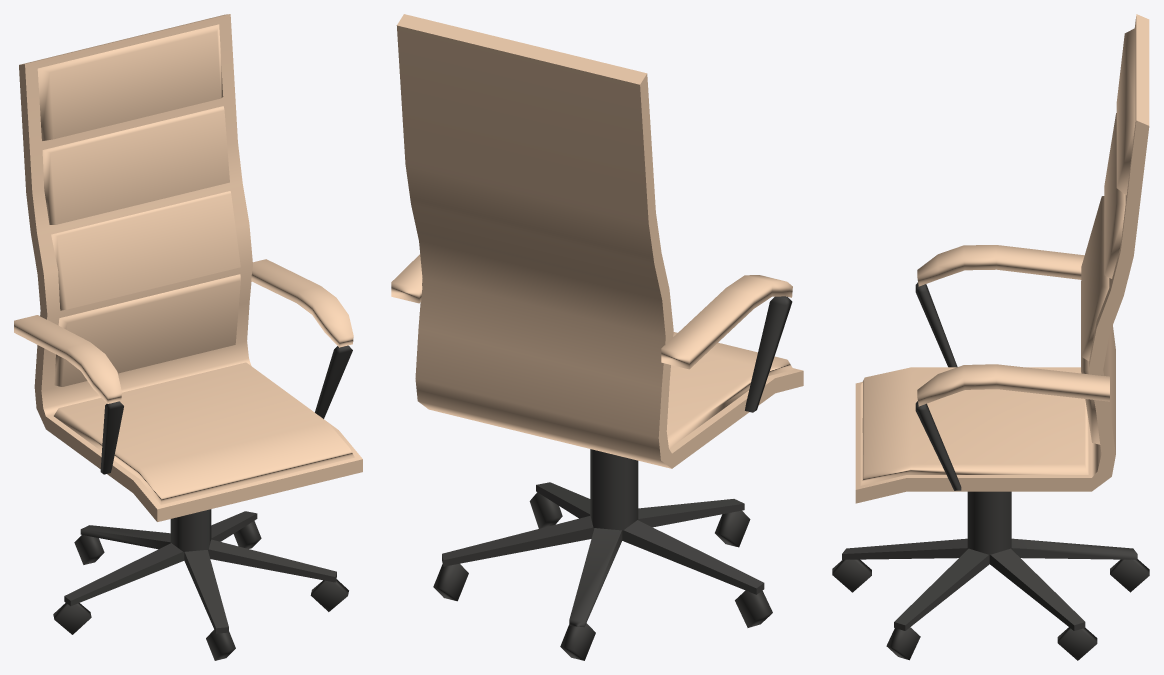
The model's file is Chair_Office_Mesh.fbx.
3 renders of one model, left to right at view 1: azimuth 30°, elevation 25°; view 2: azimuth 150°, elevation 25°; view 3: azimuth 270°, elevation 25°, orthographic. The views are drawn at different scales.
Parts seen in each view (by area): view 1: OfficeChair; view 2: OfficeChair; view 3: OfficeChair.
Boxes of the visible parts, left/top/right/bottom form: OfficeChair: left=14, top=14, right=362, bottom=660; OfficeChair: left=391, top=14, right=803, bottom=660; OfficeChair: left=832, top=14, right=1149, bottom=660.
Bounding box in the file's own units: 81.97 × 149 × 79.05.
